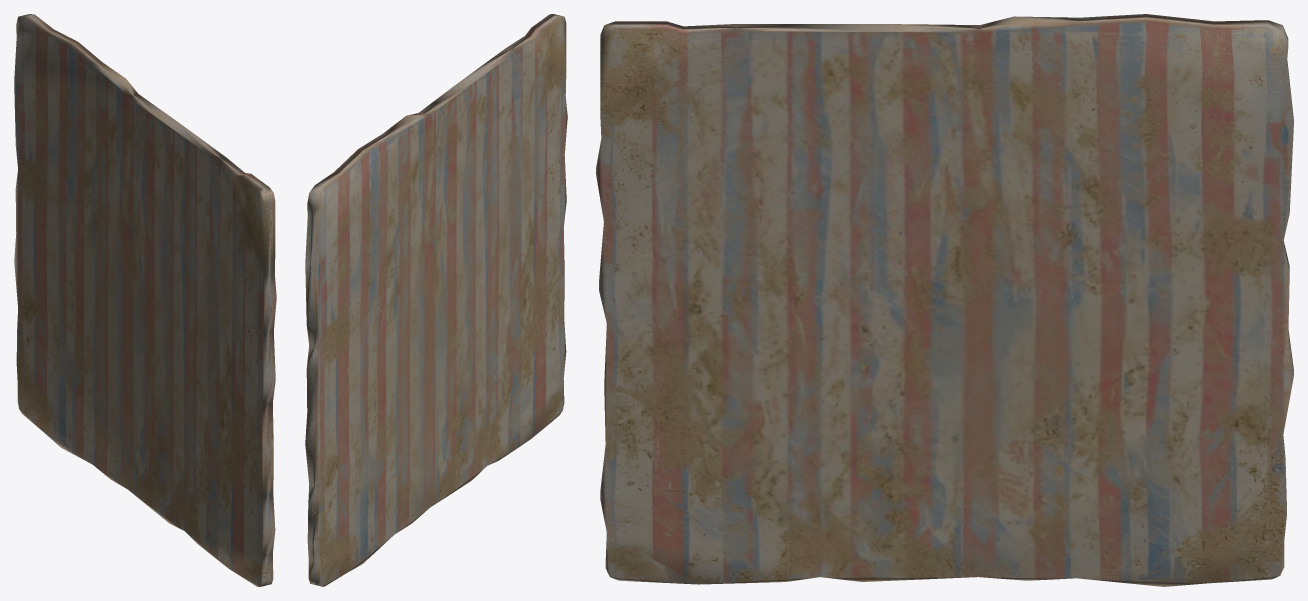
The model's file is Picnic Mat.fbx.
3 renders of one model, left to right at view 1: azimuth 30°, elevation 25°; view 2: azimuth 150°, elevation 25°; view 3: azimuth 270°, elevation 25°, orthographic. The views are drawn at different scales.
Visible parts, largest first — view 1: tripo_node_95da9502-8887-462f-af3b-6079c8fc02fd; view 2: tripo_node_95da9502-8887-462f-af3b-6079c8fc02fd; view 3: tripo_node_95da9502-8887-462f-af3b-6079c8fc02fd.
Part boxes in pixels (x1=…): tripo_node_95da9502-8887-462f-af3b-6079c8fc02fd: x1=14, y1=14, x2=276, y2=586; tripo_node_95da9502-8887-462f-af3b-6079c8fc02fd: x1=305, y1=14, x2=567, y2=586; tripo_node_95da9502-8887-462f-af3b-6079c8fc02fd: x1=596, y1=14, x2=1293, y2=586.
Bounding box in the file's own units: 2.54 × 89.26 × 99.8.
Materials: 1 (1 with a texture image).
